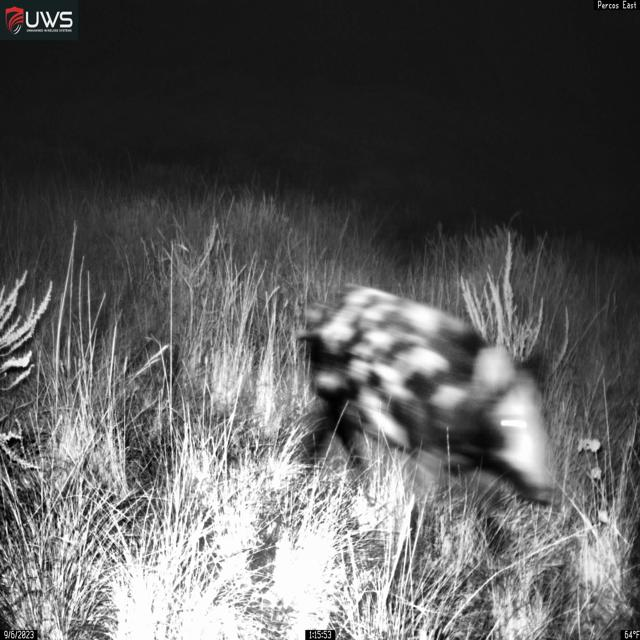pig: (292, 282, 560, 543)
